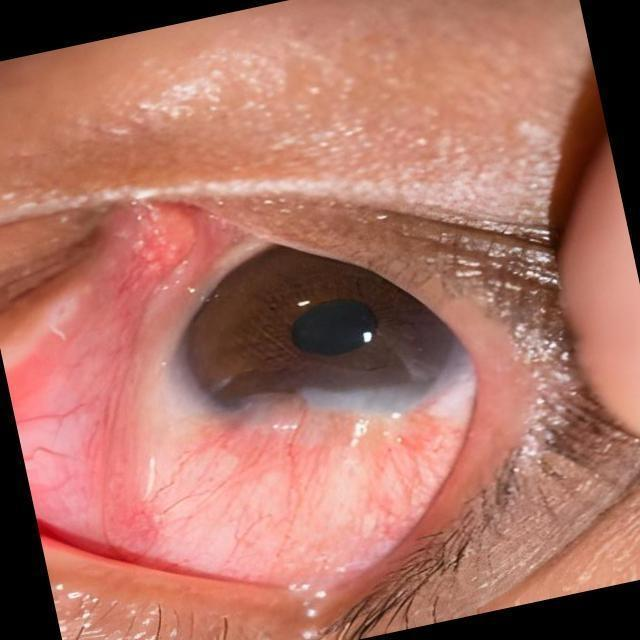Pterygium: (119, 317, 482, 617)
